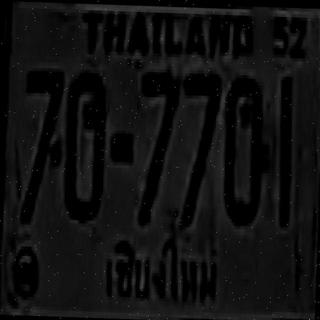N00: (62, 69, 107, 221), (221, 75, 264, 223)
N01: (276, 75, 294, 226)
N07: (136, 68, 178, 224), (20, 67, 62, 222), (178, 70, 219, 225)
P11: (97, 230, 229, 317)
